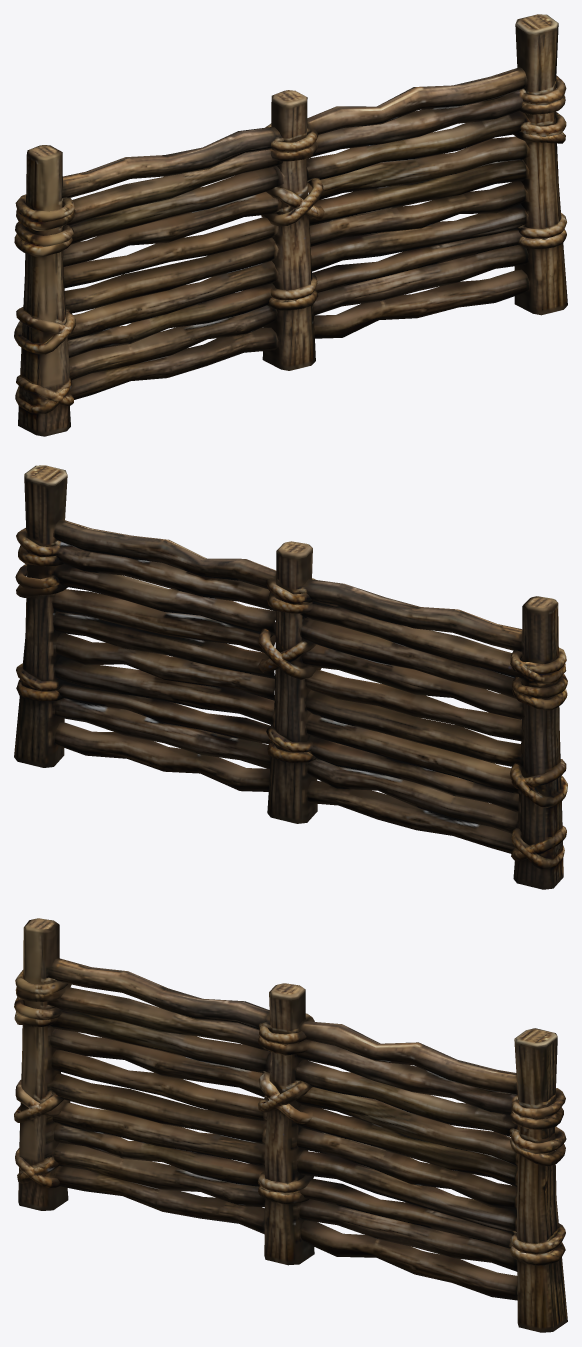
The model's file is act1_kit_v1_hurdle_fence.glb.
3 views of the same model, one above another, from view 1: azimuth 30°, elevation 25°; view 2: azimuth 150°, elevation 25°; view 3: azimuth 330°, elevation 25° (orthographic).
Parts seen in each view (by area): view 1: act1_kit_v1_hurdle_fence; view 2: act1_kit_v1_hurdle_fence; view 3: act1_kit_v1_hurdle_fence.
Boxes of the visible parts, x1,y1,x2,y2 form: act1_kit_v1_hurdle_fence: (14, 14, 567, 436); act1_kit_v1_hurdle_fence: (14, 465, 567, 889); act1_kit_v1_hurdle_fence: (14, 918, 567, 1332).
Size of the model in its own units: 1 by 0.5 by 0.1012.
1 material, 1 textured.
